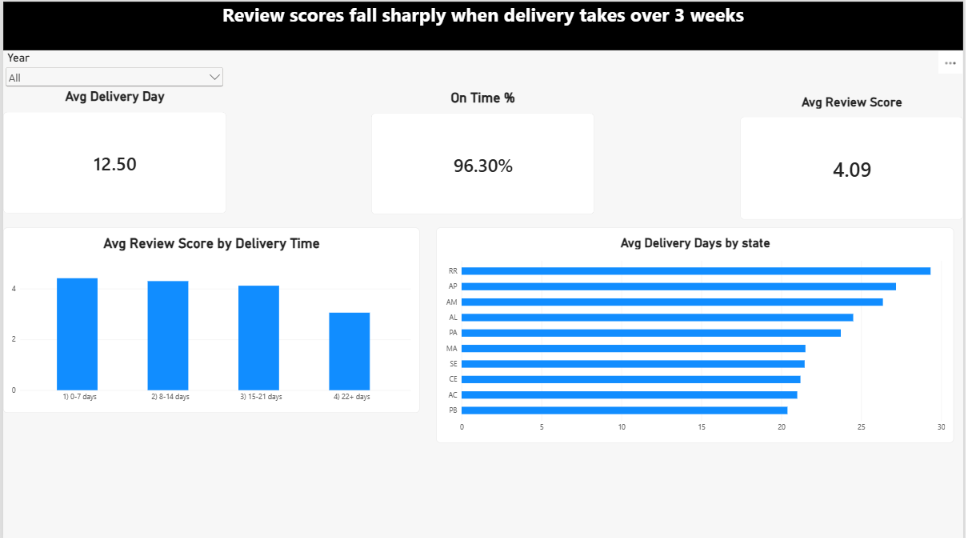

What the dashboard file says about the page in this screenshot:
{"tool":"powerbi","page":{"name":"Delivery and satisfaction","canvas":[1920,1080],"ordinal":1},"visuals":[{"type":"textbox","box":[0,0,1920,97.5],"z":0},{"type":"slicer","fields":{"Values":["analytics_marts dim_date.year"]},"box":[0,97.5,445,87.5],"z":1000},{"type":"cardVisual","title":"Avg Delivery Day","fields":{"Data":["analytics_marts agg_monthly_sales.Avg Delivery Days"]},"box":[0,174,446.7,250],"z":2000},{"type":"cardVisual","title":"On Time %","fields":{"Data":["analytics_marts agg_monthly_sales.On Time %"]},"box":[736.7,176.7,446.7,250],"z":3000},{"type":"cardVisual","title":"Avg Review Score","fields":{"Data":["analytics_marts agg_monthly_sales.Avg Review Score"]},"box":[1473.3,186.7,446.7,250],"z":4000},{"type":"columnChart","title":"Avg Review Score by Delivery Time","fields":{"Category":["analytics_marts fact_orders.Delivery Bucket"],"Y":["analytics_marts agg_monthly_sales.Avg Review Score"]},"box":[0,452.5,832.5,370],"z":4001},{"type":"barChart","fields":{"Category":["analytics_marts dim_customers.state"],"Y":["analytics_marts agg_monthly_sales.Avg Delivery Days"]},"box":[865,452.5,1035,430],"z":4002}]}

Visuals, with their boxes in screenshot pixels (x1, y1, x2, y2), scaled from the page's 1920x1080 canvas onto the 966x538 screenshot:
textbox: box=[0, 0, 965, 49]
slicer - analytics_marts dim_date.year: box=[0, 49, 224, 92]
"Avg Delivery Day" cardVisual: box=[0, 87, 225, 211]
"On Time %" cardVisual: box=[371, 88, 595, 213]
"Avg Review Score" cardVisual: box=[741, 93, 965, 218]
"Avg Review Score by Delivery Time" columnChart: box=[0, 225, 419, 410]
barChart - analytics_marts dim_customers.state x analytics_marts agg_monthly_sales.Avg Delivery Days: box=[435, 225, 956, 440]
